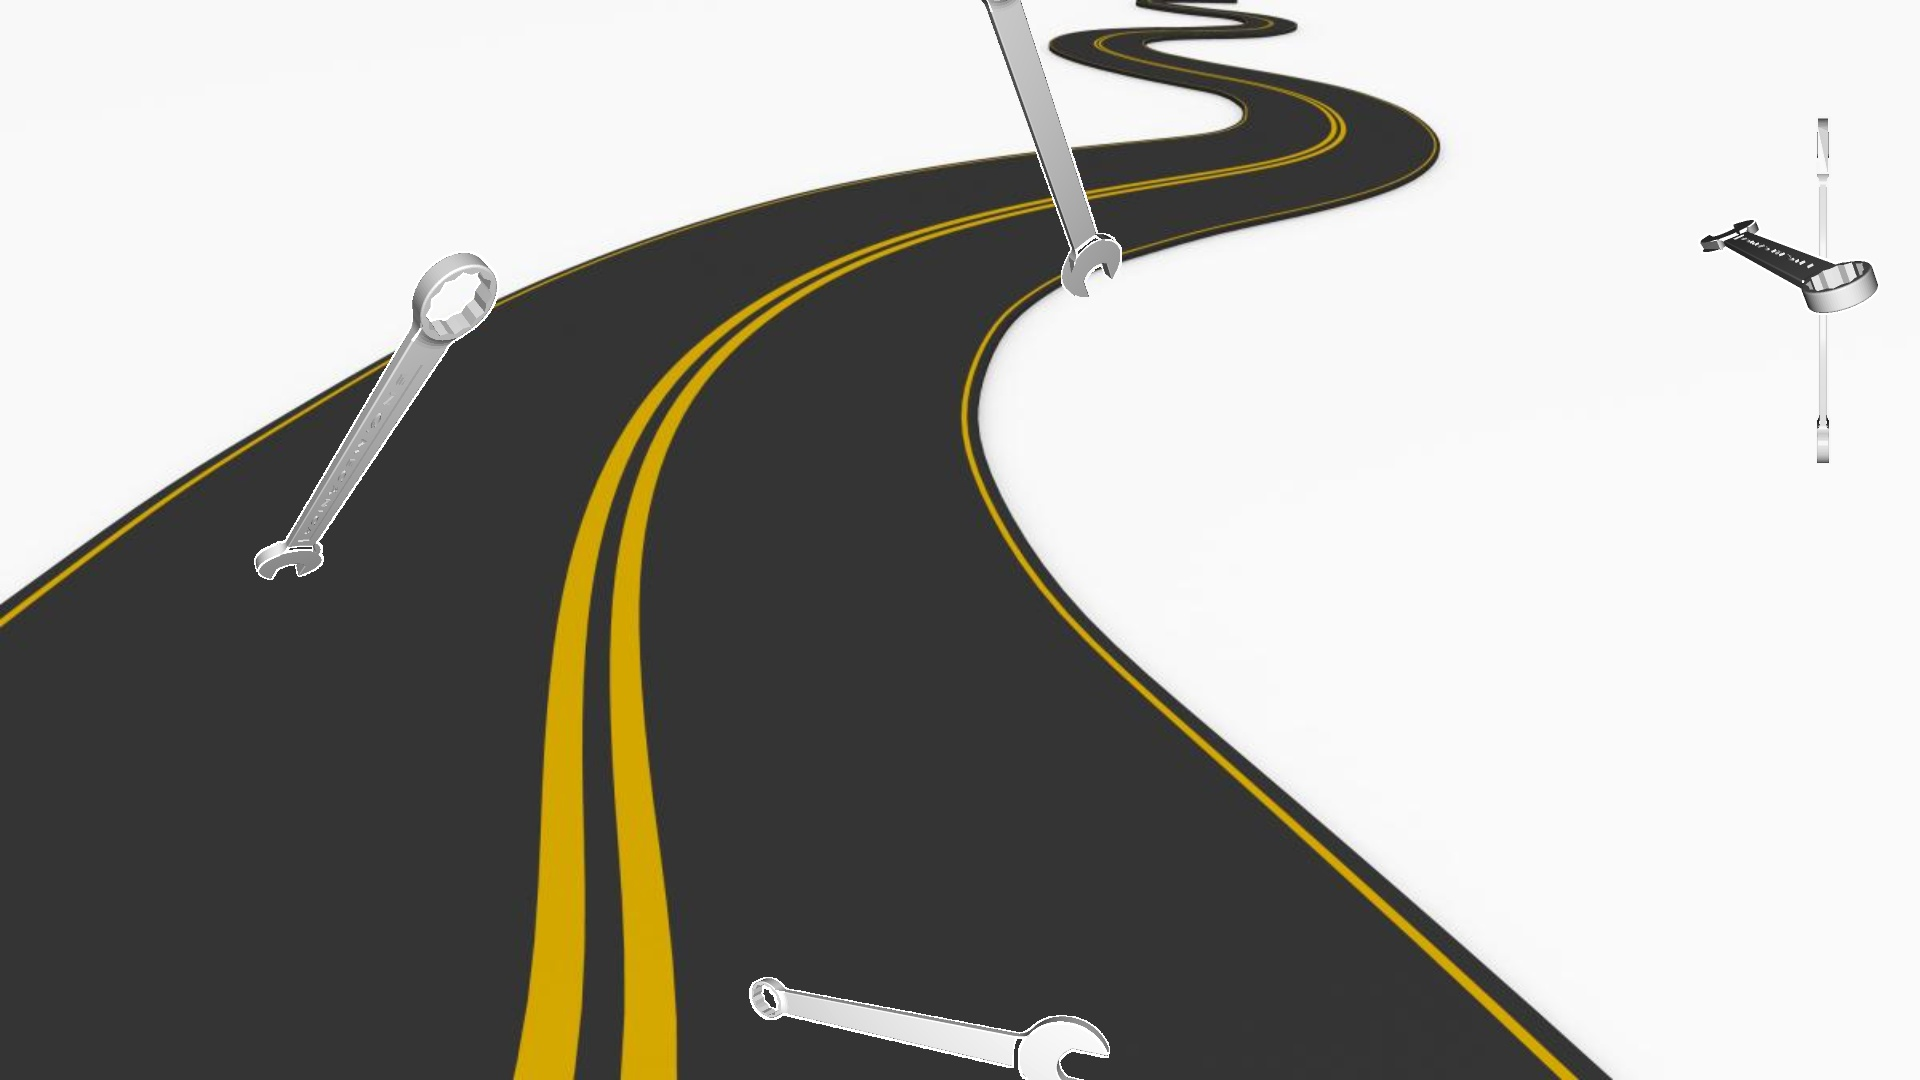Mixed Key: (255, 251, 498, 579), (978, 0, 1121, 298), (749, 977, 1109, 1079), (1698, 218, 1879, 314), (1816, 116, 1830, 463)
